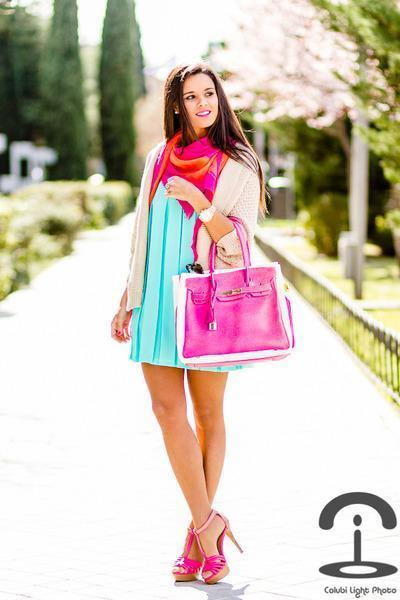bag: (166, 200, 294, 378)
dress: (130, 204, 197, 365)
jacket: (118, 140, 263, 299)
shoe: (173, 525, 225, 584)
